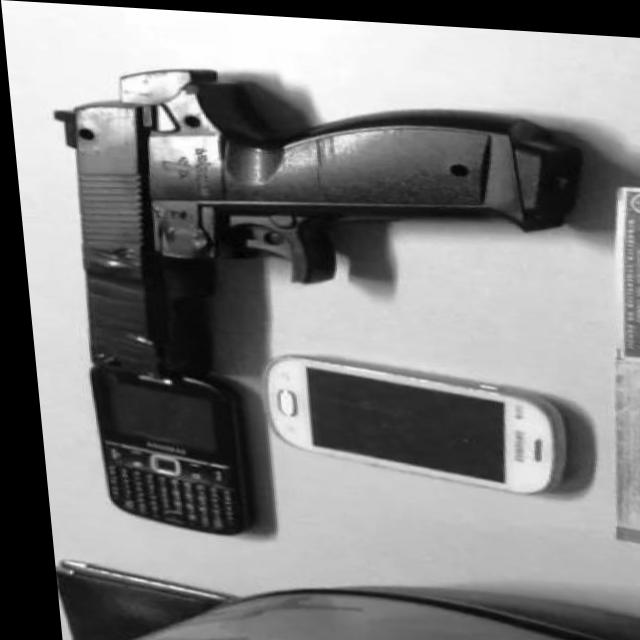handgun: (39, 54, 594, 400)
